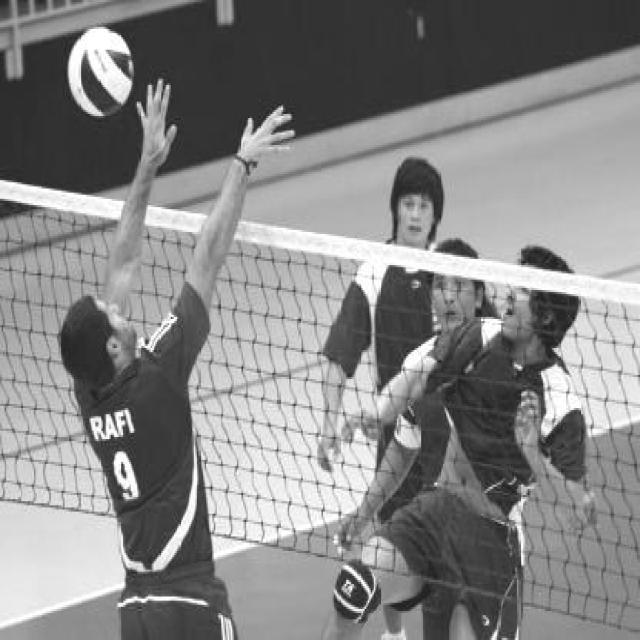volleyball: (68, 28, 134, 116)
